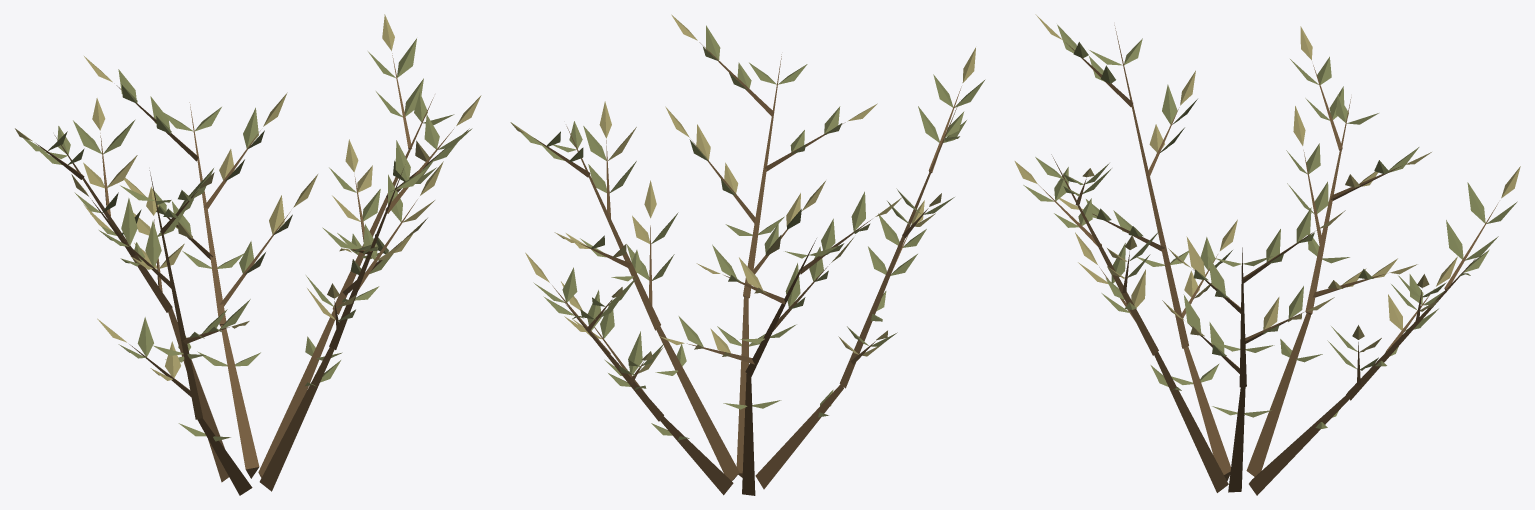
The model's file is bush-1.glb.
3 views of the same model, side by side, from view 1: azimuth 30°, elevation 25°; view 2: azimuth 150°, elevation 25°; view 3: azimuth 270°, elevation 25° (orthographic). The views are drawn at different scales.
Parts seen in each view (by area): view 1: bush-1-lod0; view 2: bush-1-lod0; view 3: bush-1-lod0.
Part boxes in pixels (x1,y1,x2,y2): bush-1-lod0: (15, 14, 481, 495); bush-1-lod0: (510, 14, 985, 495); bush-1-lod0: (1014, 14, 1520, 495).
Size of the model in its own units: 2.4 by 2.4 by 2.68.
